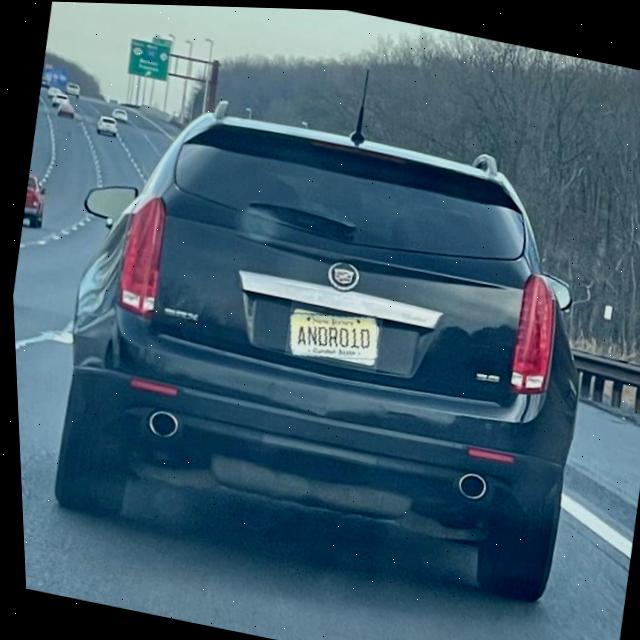LicensePlate: (287, 311, 375, 358)
